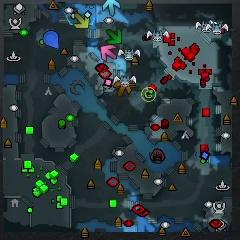Other: (142, 87, 156, 103)
p1: (43, 30, 61, 50)
x1: (100, 44, 118, 61)
x2: (74, 11, 91, 30)
x3: (102, 0, 121, 16)
x4: (106, 29, 124, 45)
x5: (114, 77, 131, 98)
